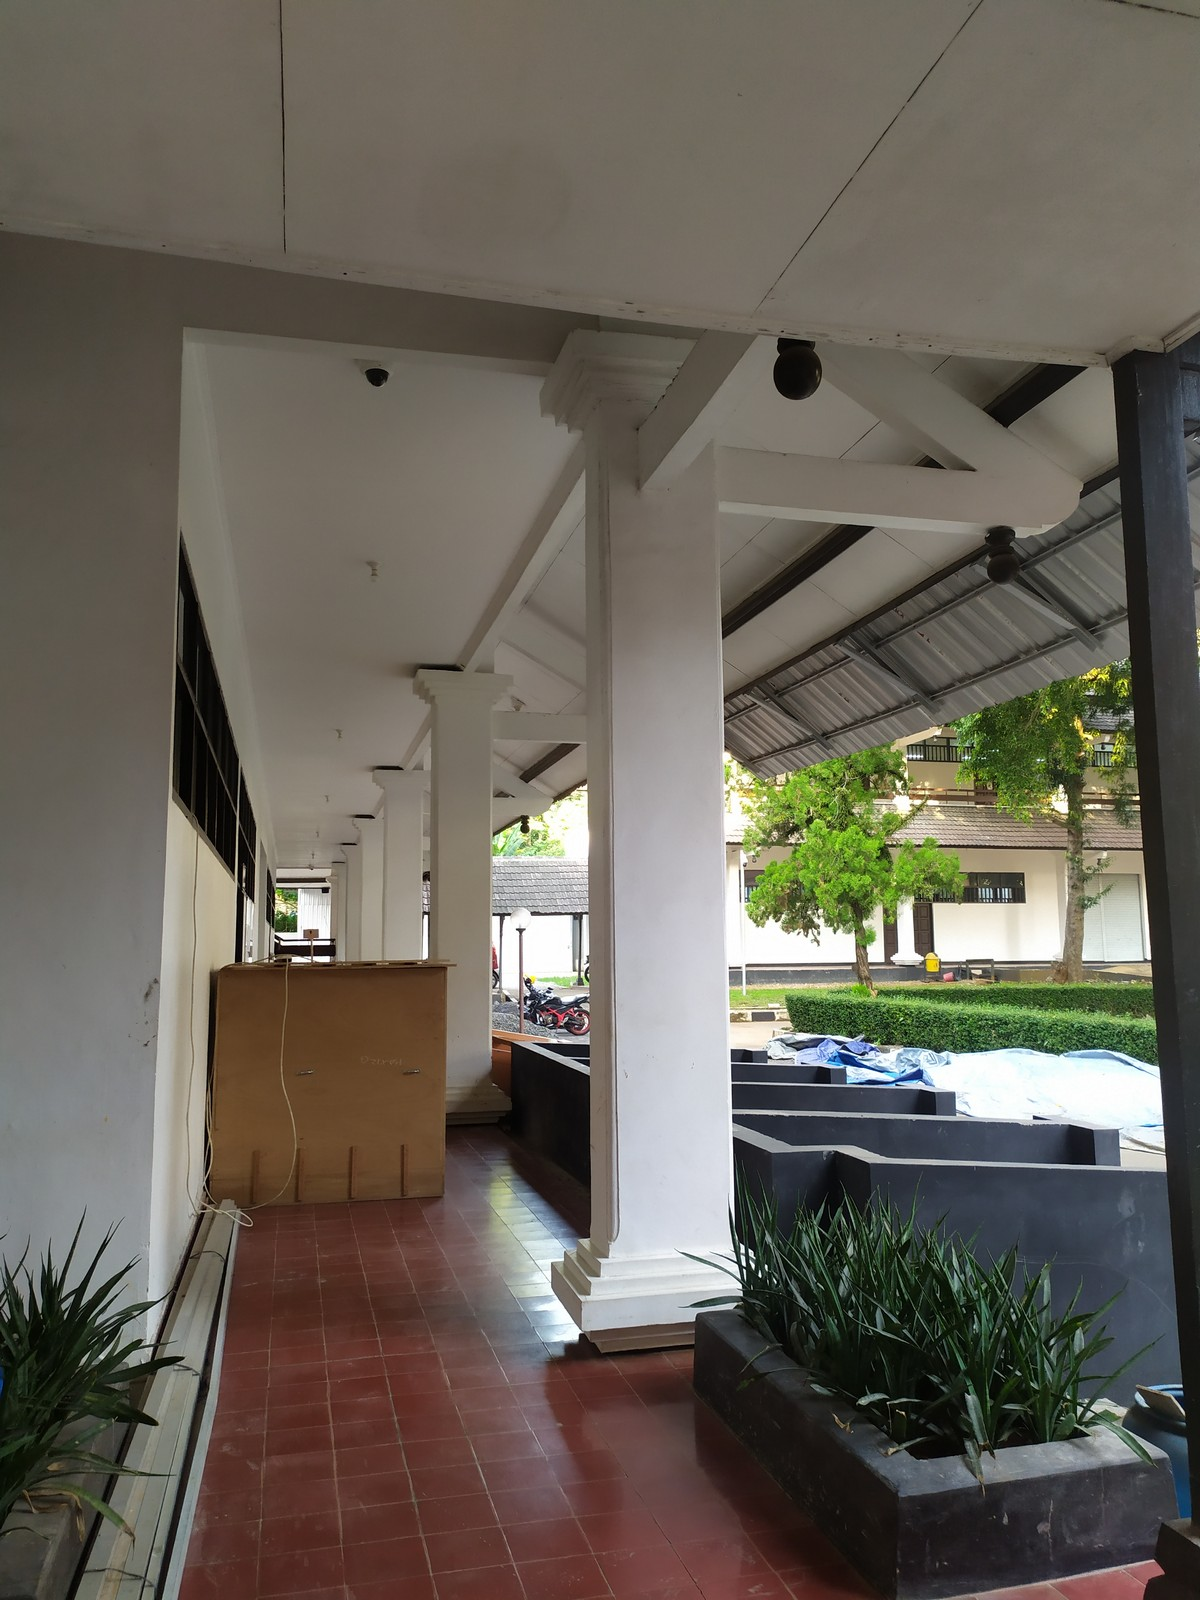concrete beam: (700, 443, 991, 551), (479, 698, 599, 751)
concrete column: (572, 401, 754, 1264), (425, 693, 508, 1082), (377, 775, 429, 957)
